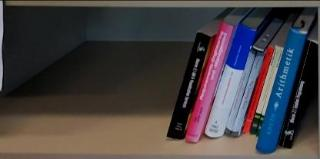book-spine: (255, 26, 307, 157), (203, 22, 257, 141), (185, 19, 235, 145), (167, 32, 211, 140), (279, 38, 319, 150), (230, 50, 265, 139), (248, 44, 281, 136), (224, 47, 257, 137), (242, 44, 274, 134), (256, 47, 285, 137)
